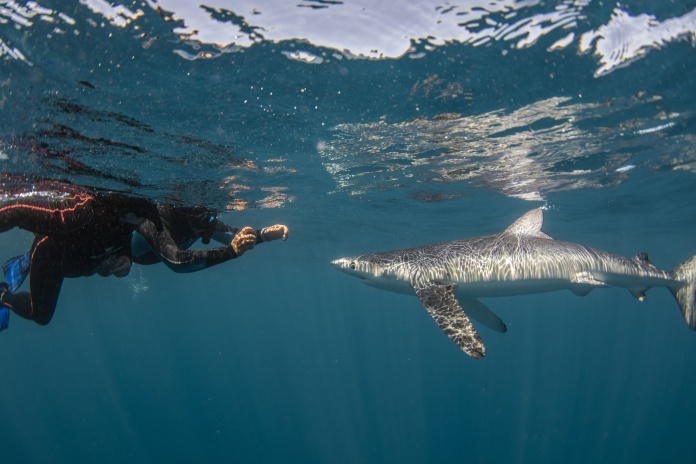Azul: (311, 203, 696, 377)
